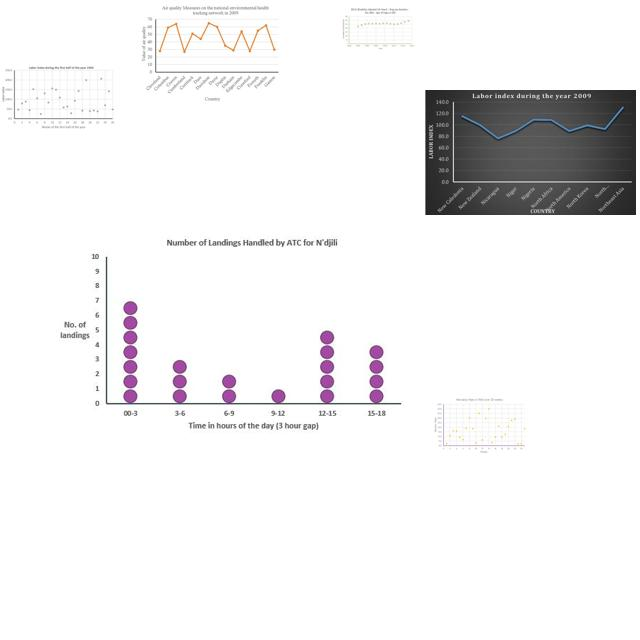Graph: (48, 230, 409, 439), (425, 90, 636, 215), (139, 3, 281, 103), (1, 65, 115, 130), (434, 397, 527, 454), (341, 7, 415, 51)
